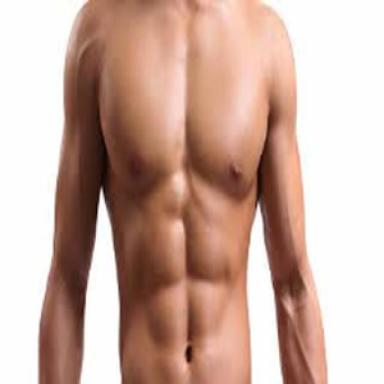normal skin: (40, 0, 326, 384)
